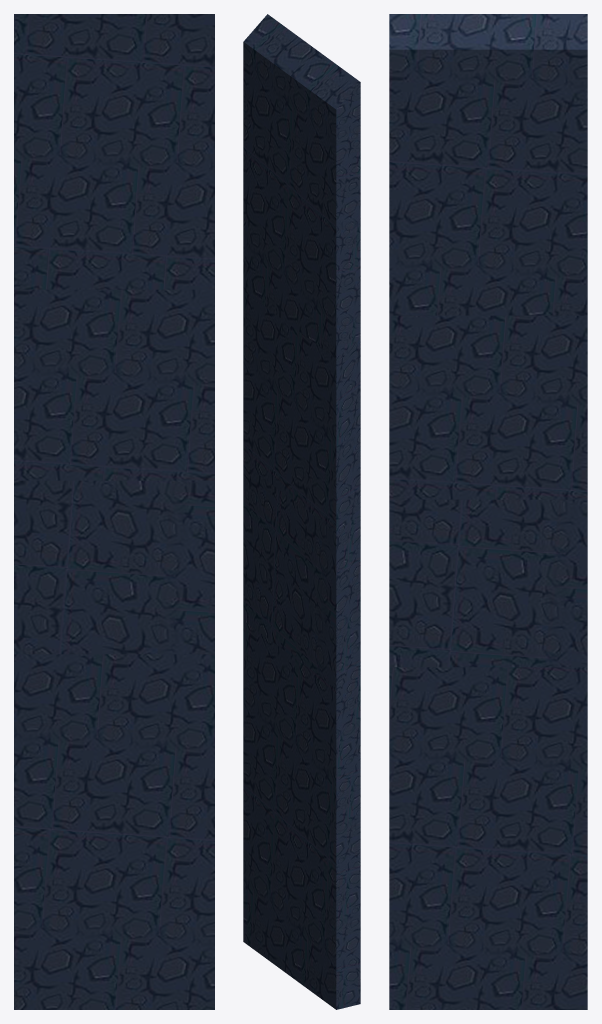
The model's file is paredDer.fbx.
The picture shows the model from 3 angles, left to right: view 1: azimuth 90°, elevation 25°; view 2: azimuth 210°, elevation 25°; view 3: azimuth 270°, elevation 25°; orthographic projection. The views are drawn at different scales.
Parts seen in each view (by area): view 1: pared2; view 2: pared2; view 3: pared2.
Part boxes in pixels (bbox=[...]): pared2: bbox=[14, 14, 214, 1009]; pared2: bbox=[243, 14, 360, 1009]; pared2: bbox=[389, 14, 587, 1009].
Size of the model in its own units: 3.45 by 126 by 23.
1 material, 1 textured.
